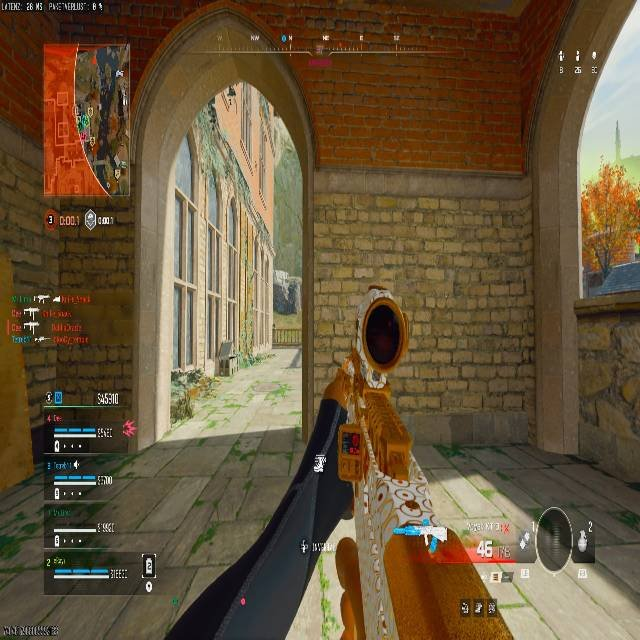head: (363, 302, 406, 367)
